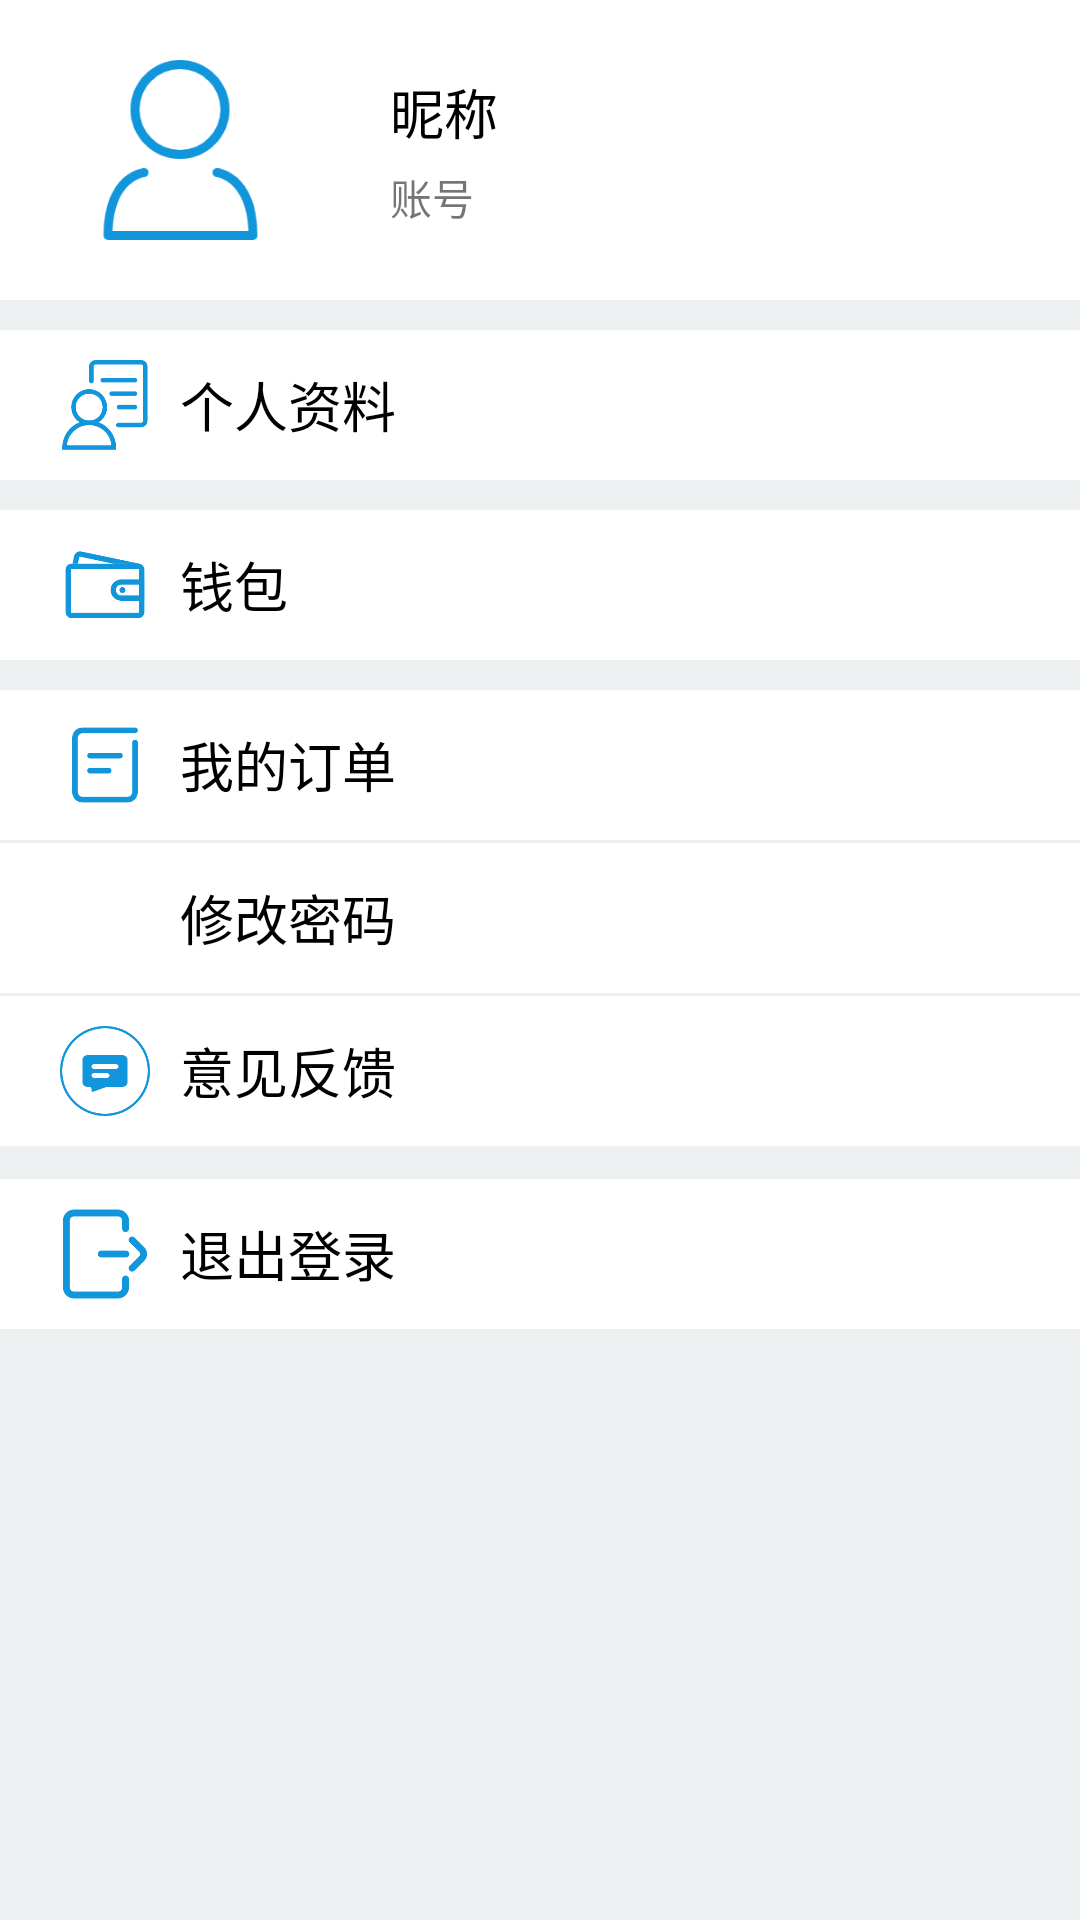

Locate icon controls on the screen. Image size 1080px×1920px, boxes as (x1, y1, x2, y2).
account: (103, 60, 258, 240)
opinions: (60, 1026, 150, 1116)
order: (72, 727, 138, 803)
personal info: (62, 360, 148, 450)
wallet: (65, 551, 145, 618)
